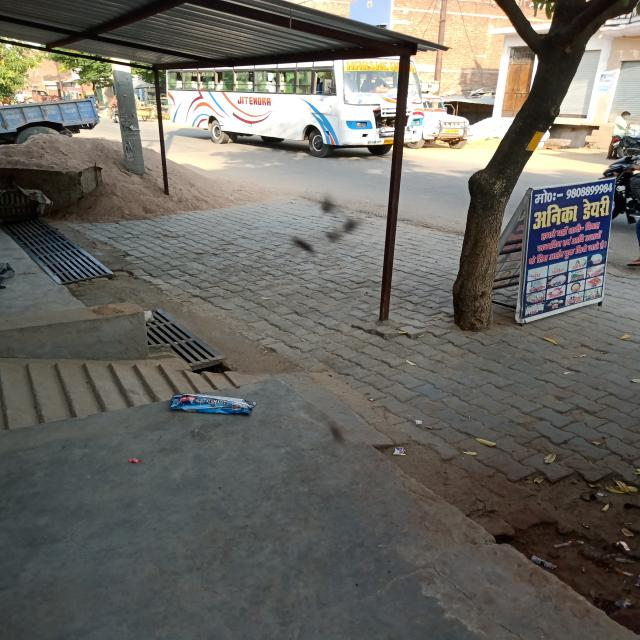Bike: (589, 154, 640, 233), (597, 118, 640, 161), (106, 102, 122, 124), (12, 96, 26, 106)
Bus: (163, 56, 428, 157)
Car: (21, 88, 59, 103)
Truck: (378, 76, 476, 150)
